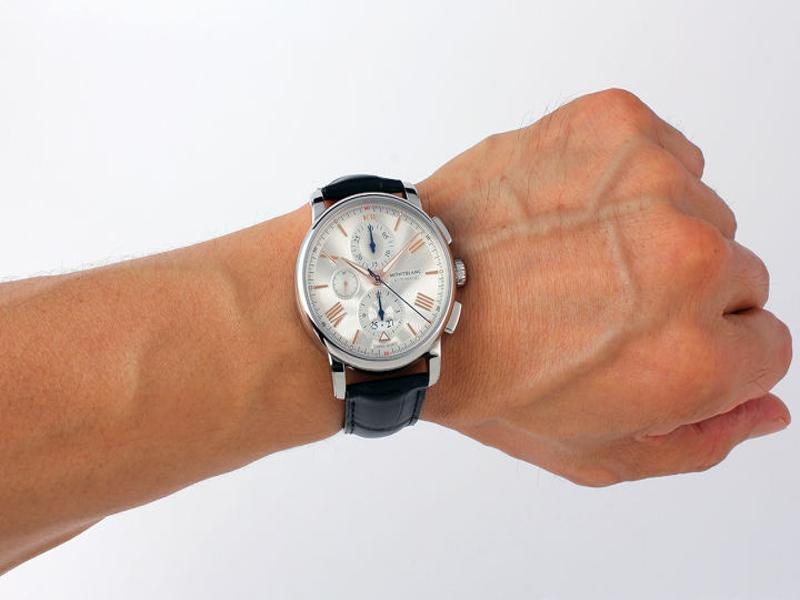watch: (299, 172, 471, 440)
